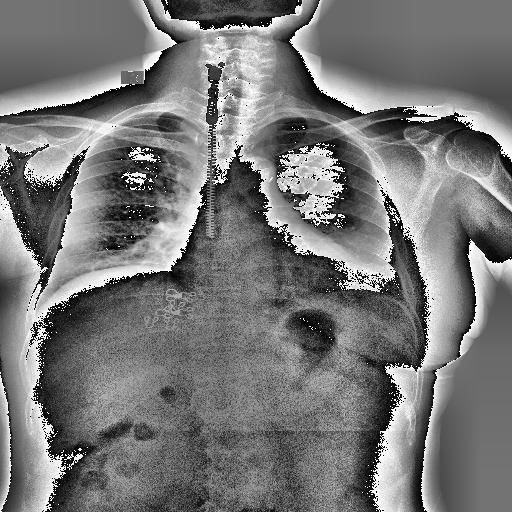0- Aortic enlargement: (233, 158, 276, 202), (230, 158, 276, 188)
3- Cardiomegaly: (160, 240, 386, 305), (168, 228, 378, 292), (164, 252, 378, 298)
